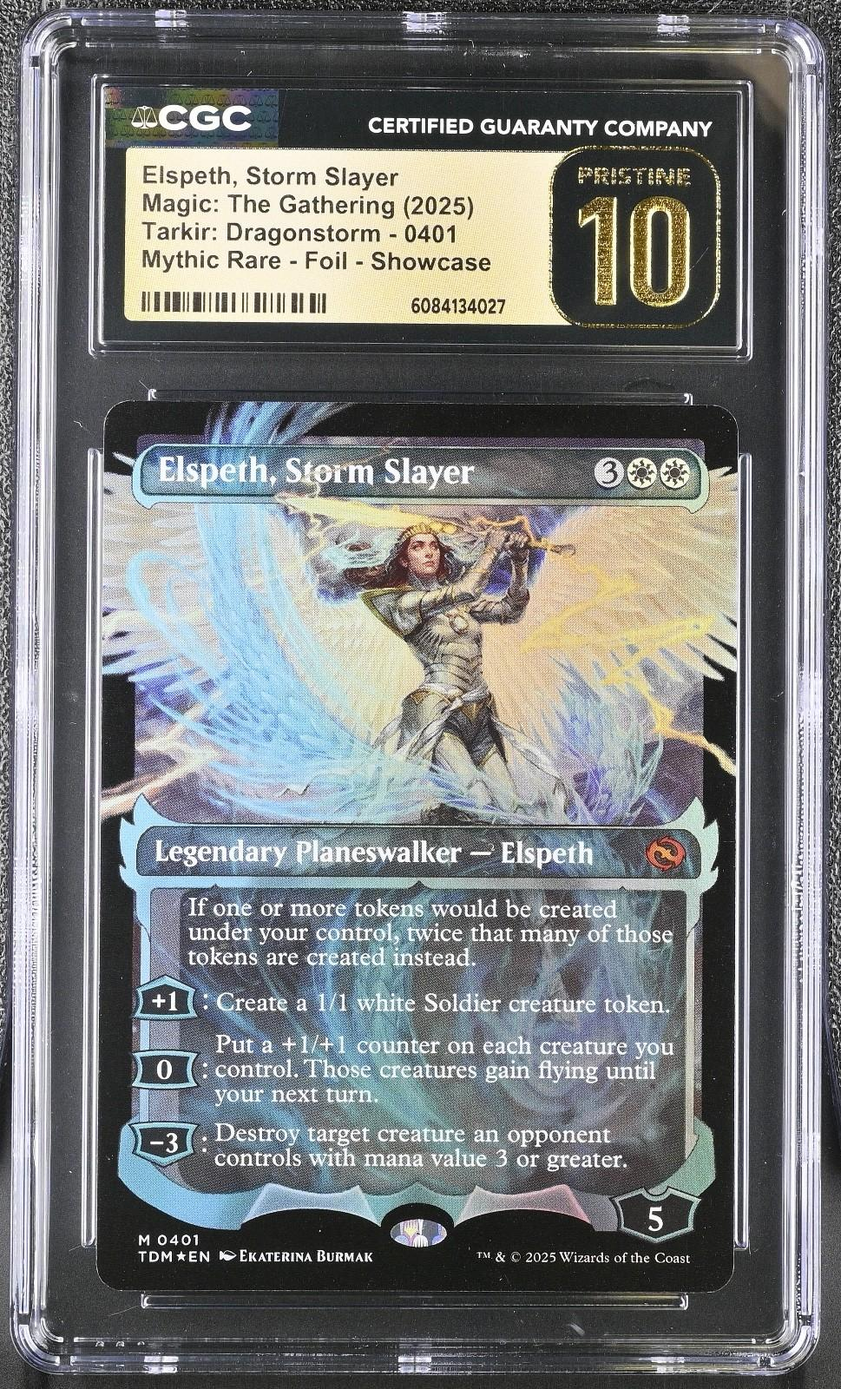card-2UtV: (95, 400, 740, 1294)
